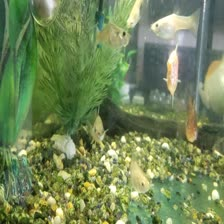Guppy: (149, 3, 204, 37), (92, 18, 134, 47), (126, 152, 152, 194), (83, 107, 110, 147), (126, 0, 142, 26)
Plano: (161, 43, 187, 99)
Transparente: (182, 92, 198, 141)
